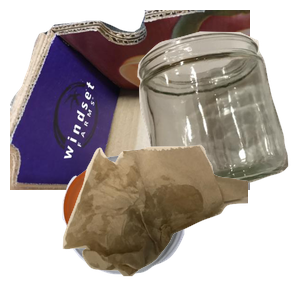cardboard: (10, 10, 250, 190)
glass: (135, 29, 300, 209)
plastic: (60, 152, 237, 300)
trash: (60, 142, 300, 300)
